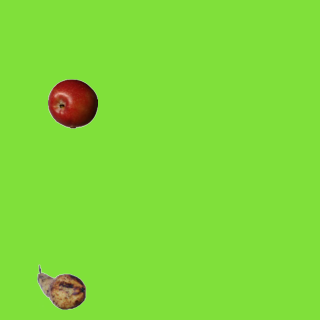Apple Braeburn: (47, 78, 97, 128)
Pear Abate: (36, 262, 86, 312)
